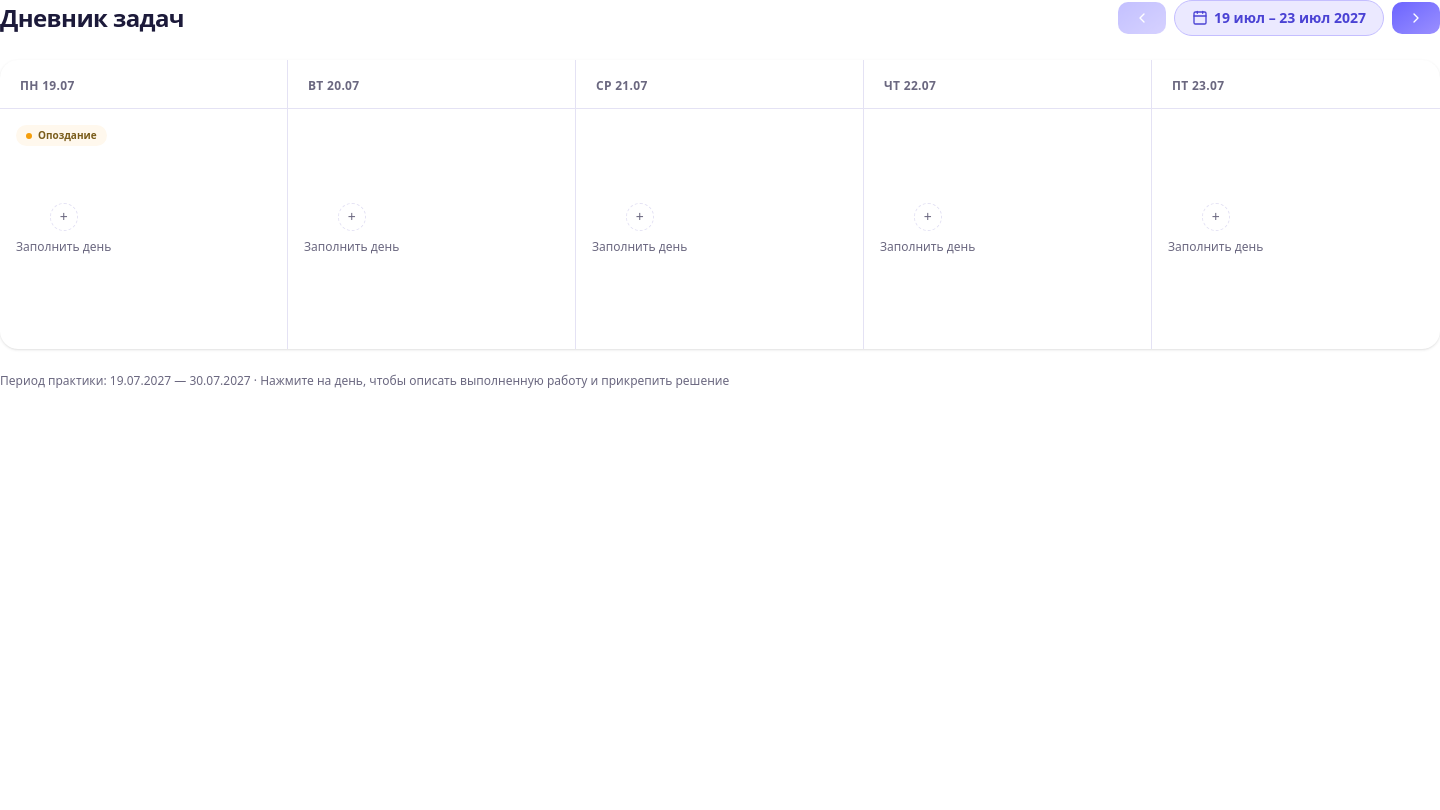
Test: DashboardTasksPage (дневник задач) › заполняет день описанием и ссылкой, значения сохраняются и отображаются
Click the button "Опоздание + Заполнить день": (144, 229) [16,125,271,333]
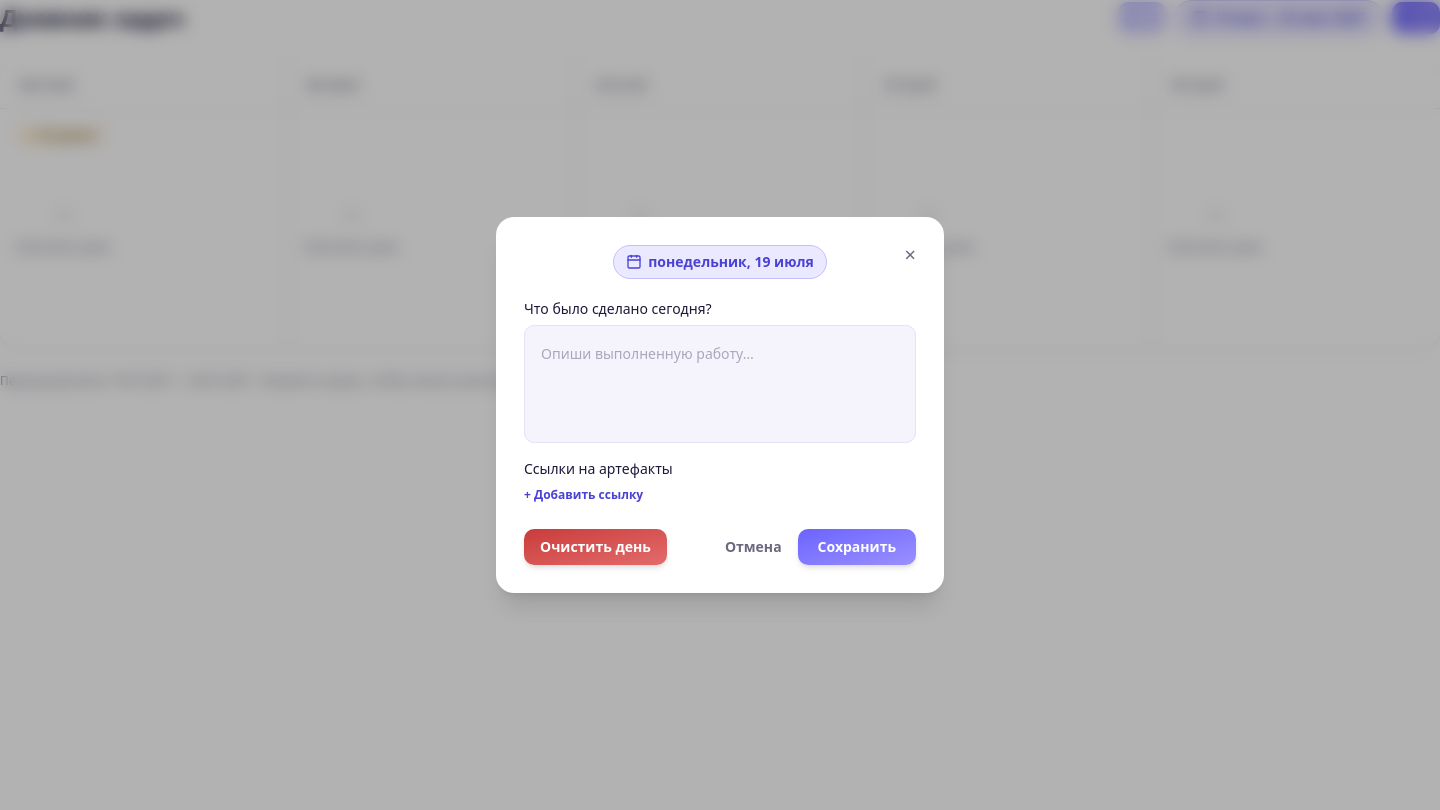
In the text box with placeholder "Опиши выполненную работу…": (720, 384) [524,325,916,443], type "Настроил окружение"
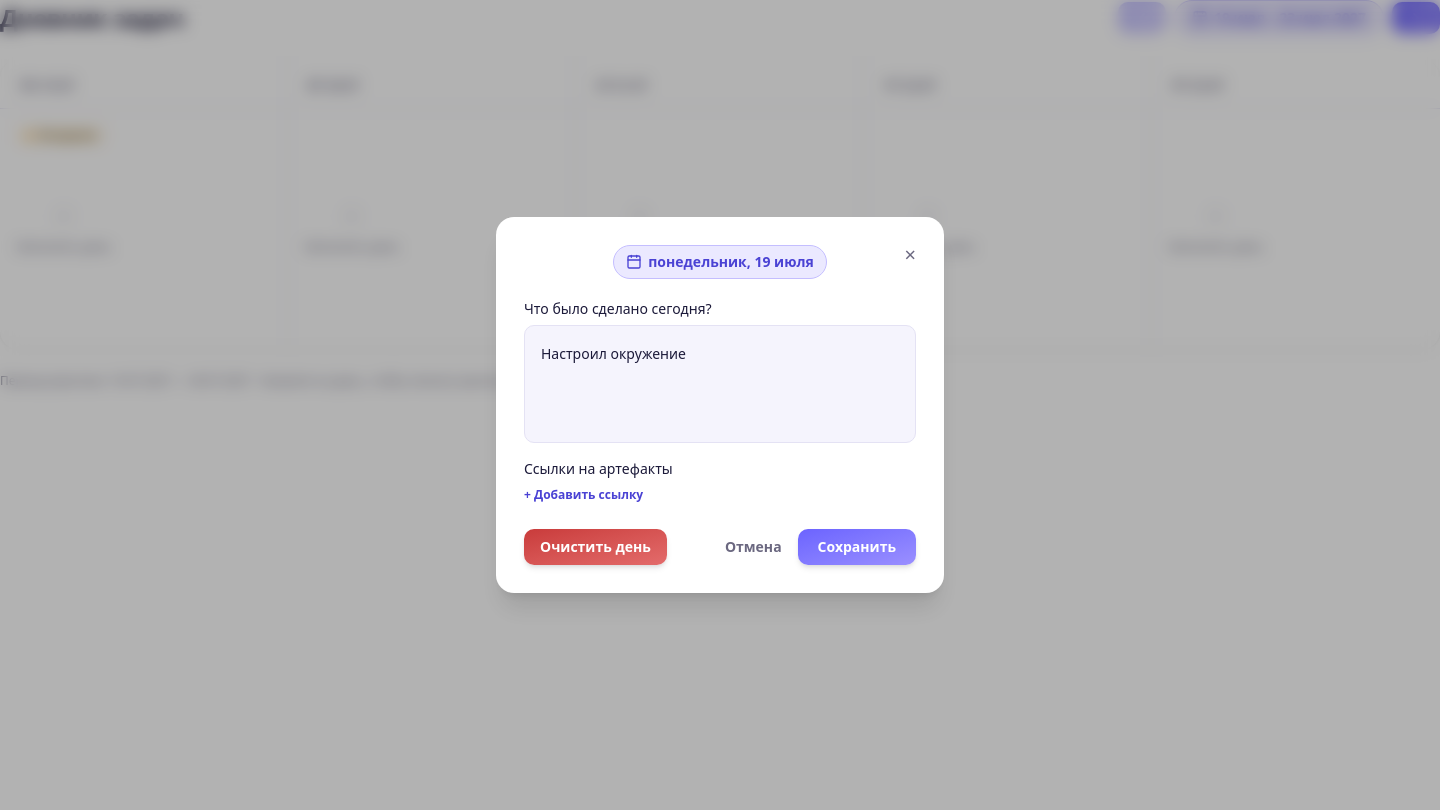
Click the button "+ Добавить ссылку": (584, 496) [524,487,643,505]
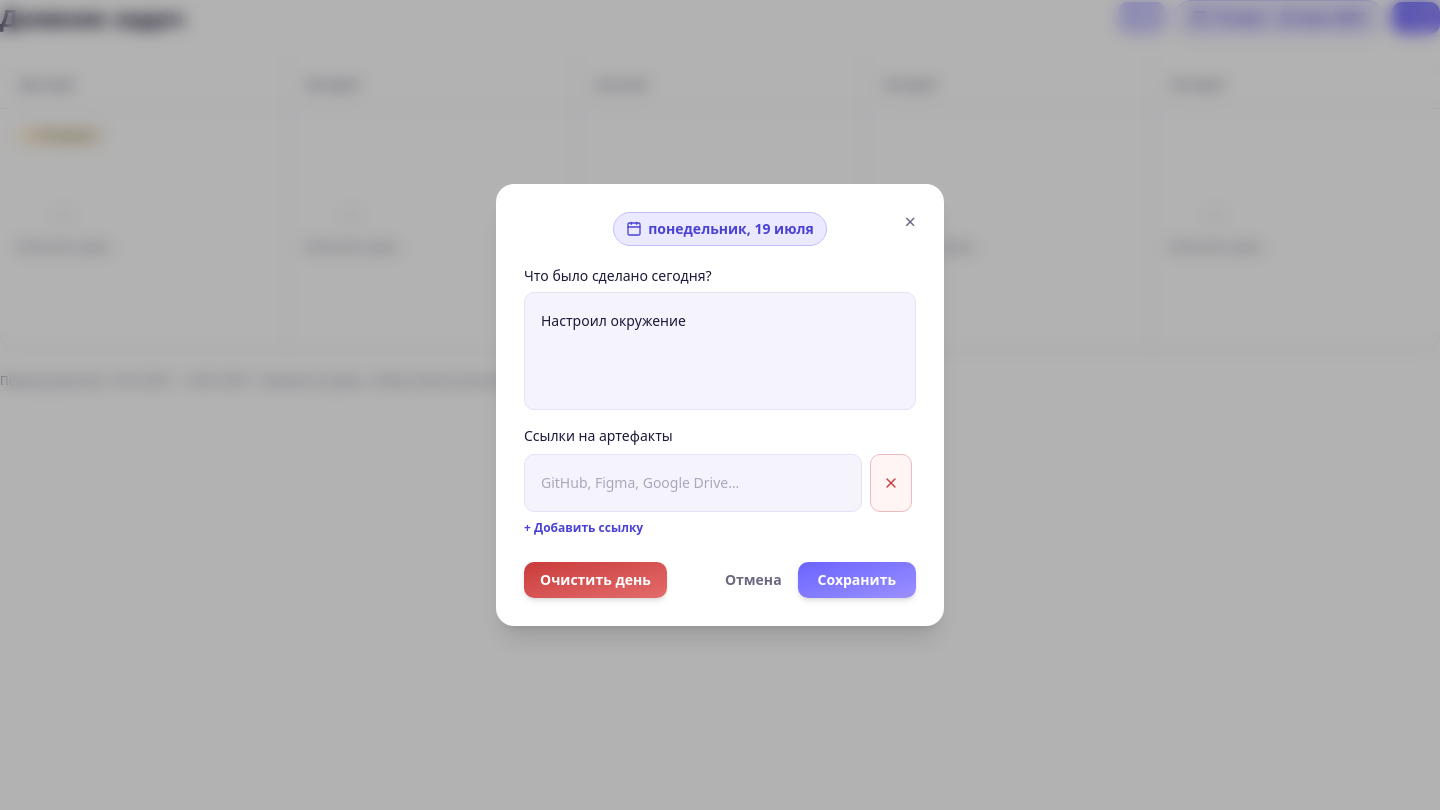
In the field with placeholder "GitHub, Figma, Google Drive…": (693, 483) [524,454,862,512], type "https://github.com/example/repo"
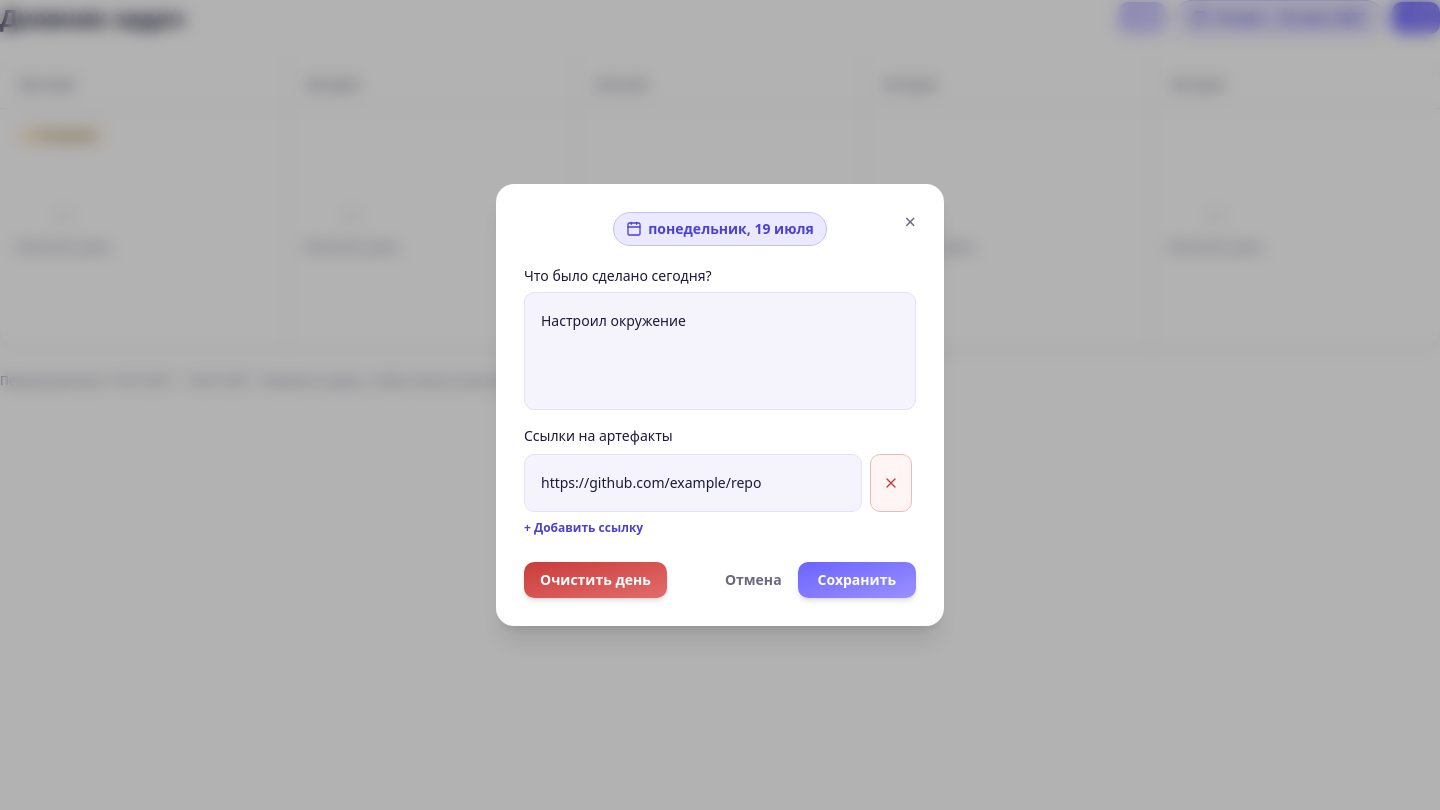
Click the button "Сохранить": (857, 580) [798,562,916,598]
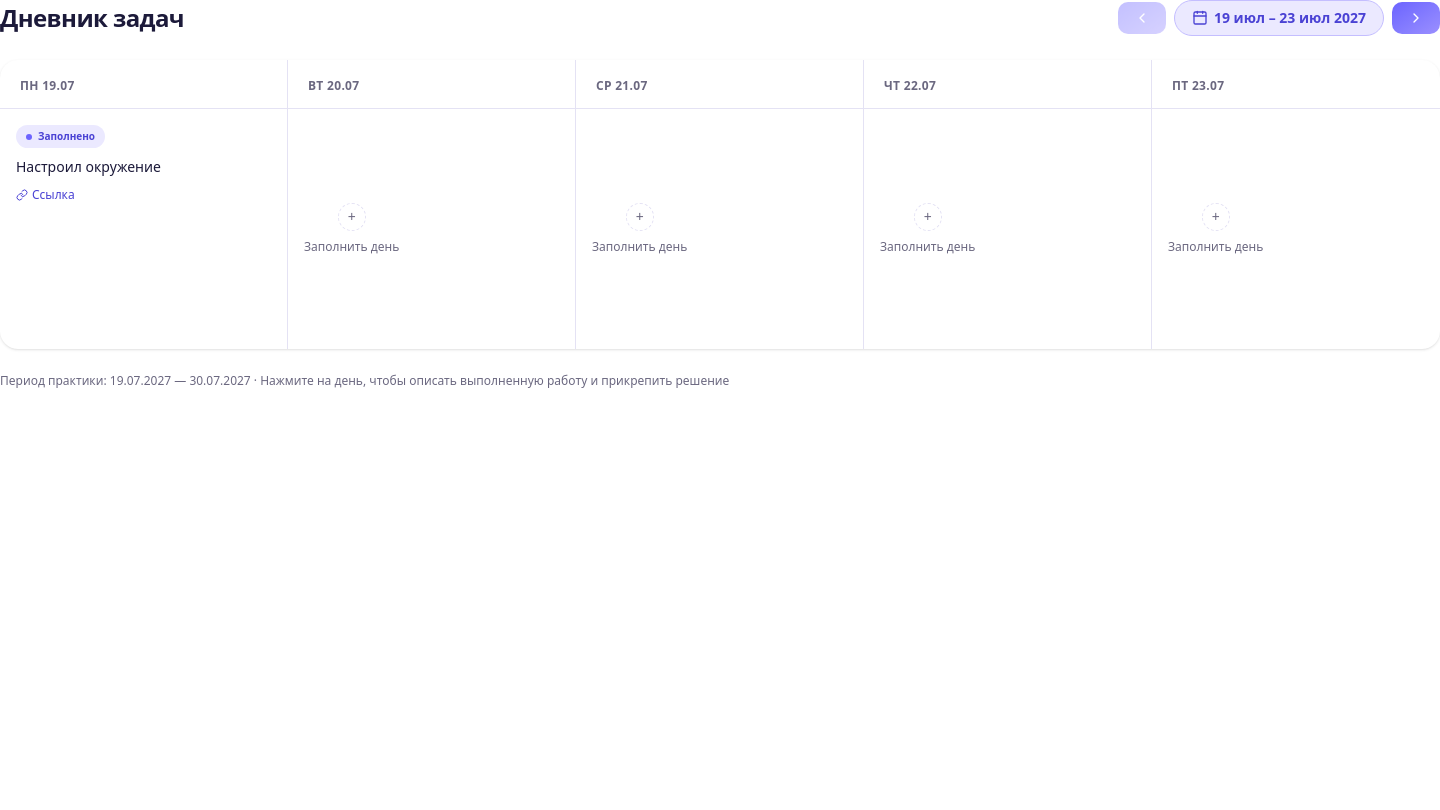
Expected: the text "Что было сделано сегодня?" is gone
Expected: the text "Настроил окружение" is shown, [16,156,161,179]
Expected: the text "Ссылка" is shown, [16,187,75,203]
